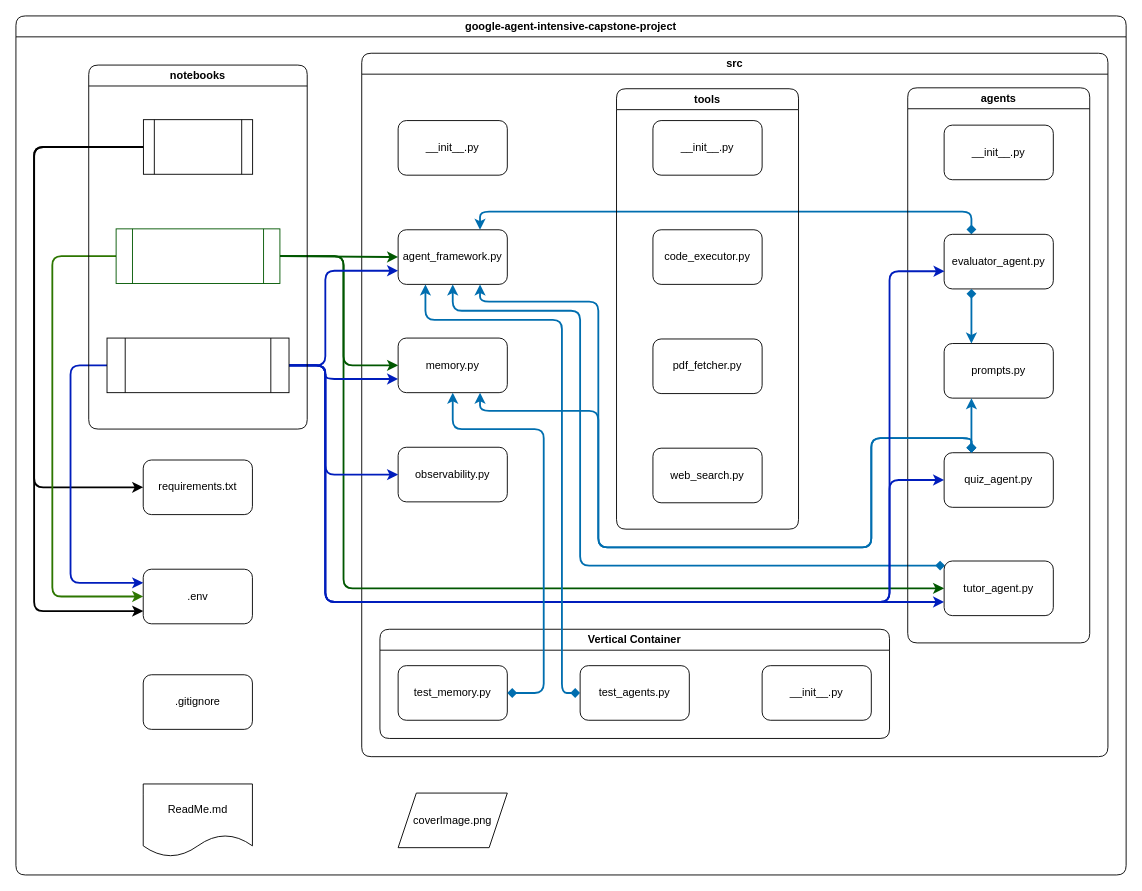
Image size: 1142x891. Some labels were removed from this diagram. The centre of each missing label's shape, as x and y in pixels:
"00_setup.ipynb" goes at point 198,146.
"01_agents_demo.ipynb" goes at point 197,255.
"02_end_to_end_demo.ipynb" goes at point 197,365.
